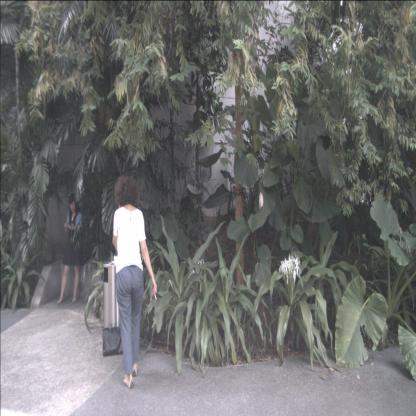human-pedestrian-adult: (112, 175, 157, 389), (57, 193, 83, 305)
